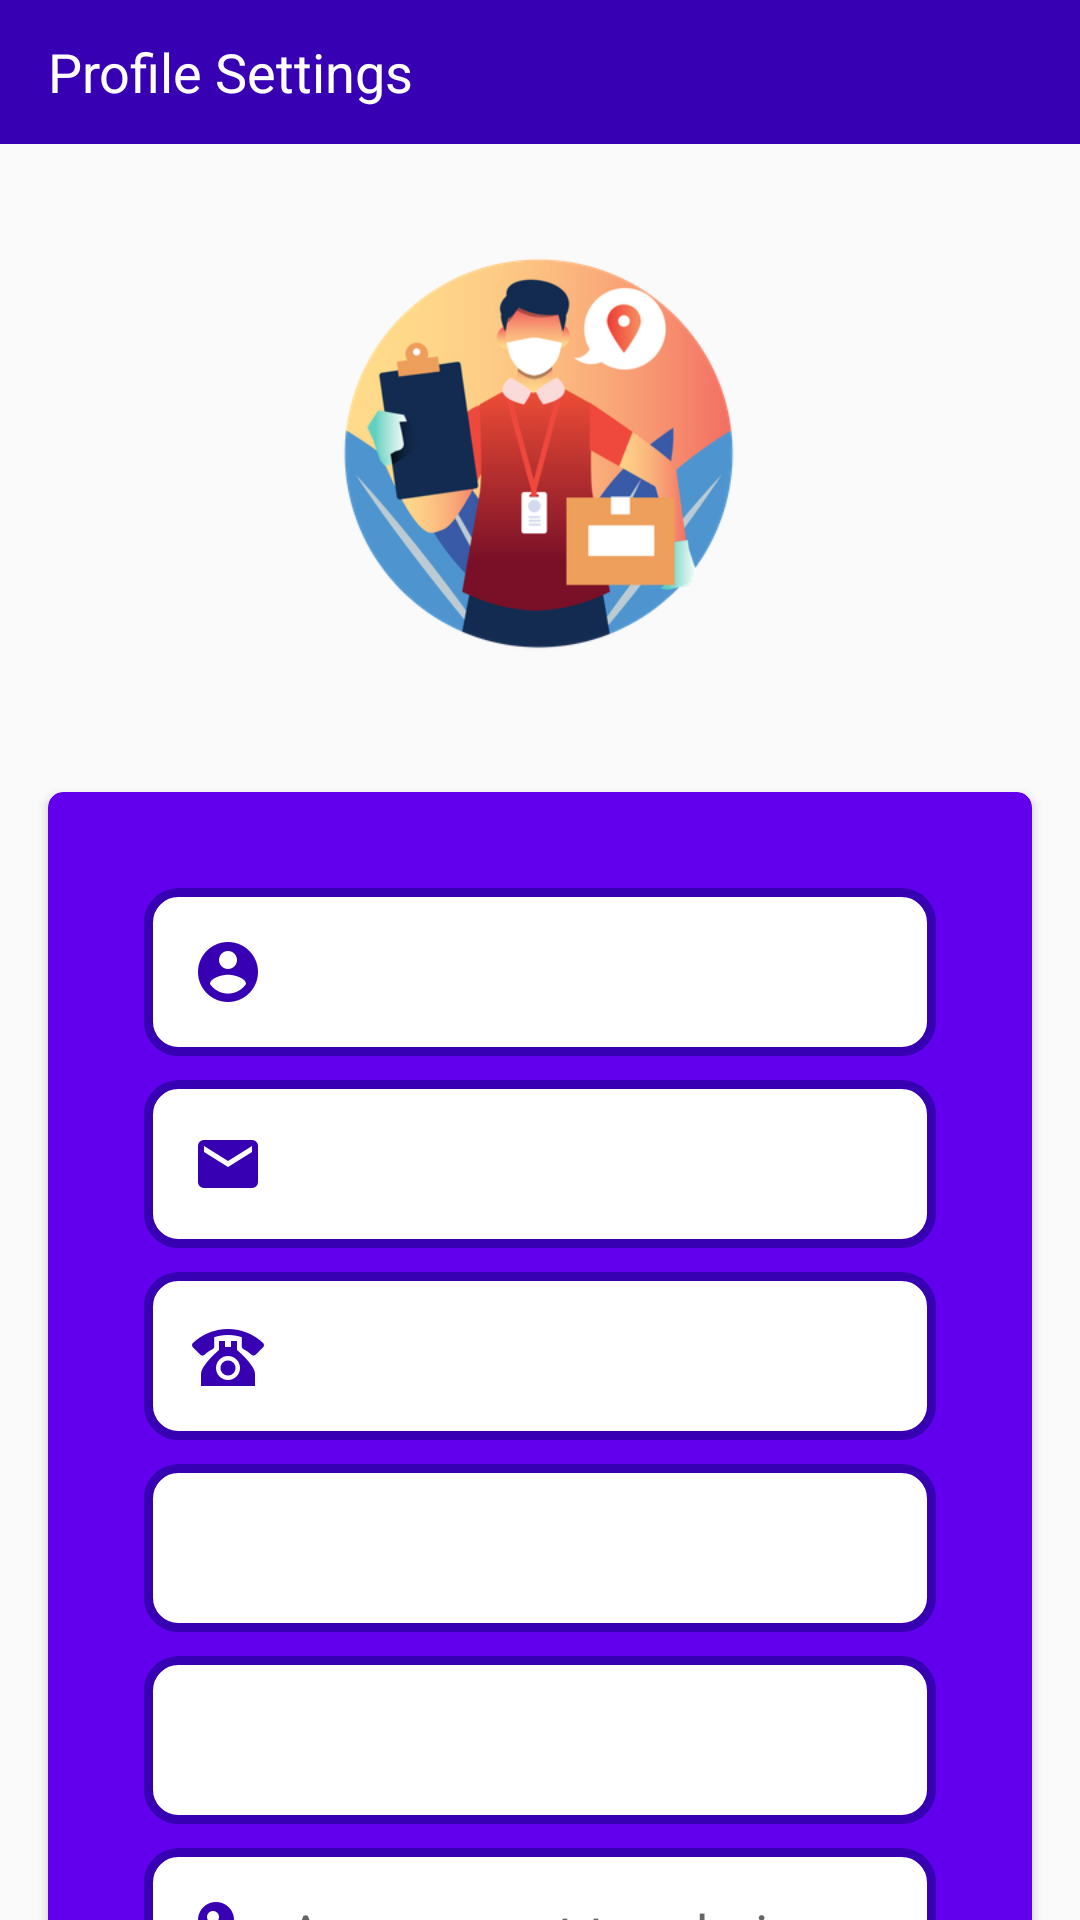

Icons on this 1080px×1920px Android screen, each with the point to tap as point (x, y):
account circle: point (228, 972)
email: point (228, 1164)
phone classic: point (228, 1357)
